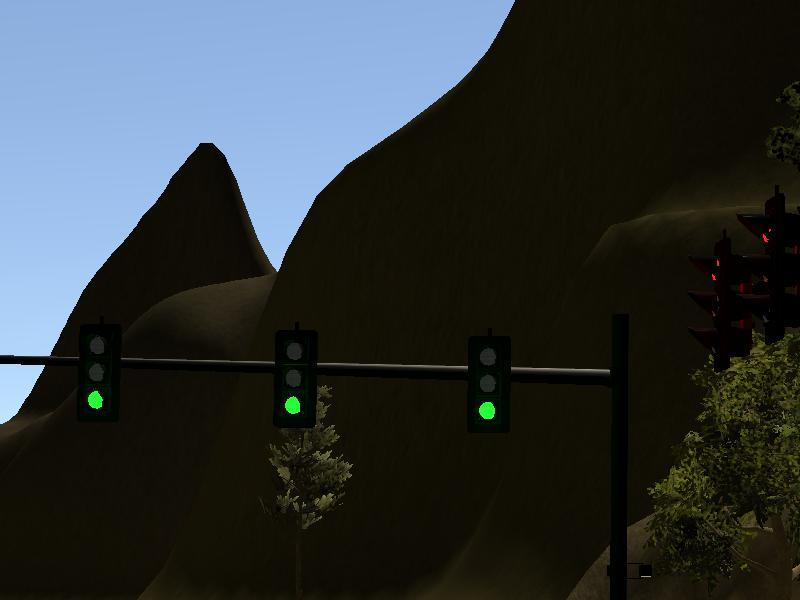Green: (462, 324, 509, 433), (271, 329, 315, 432), (76, 324, 117, 424)
